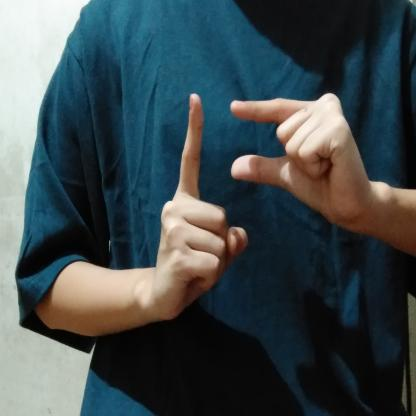daughter: (146, 82, 384, 330)
